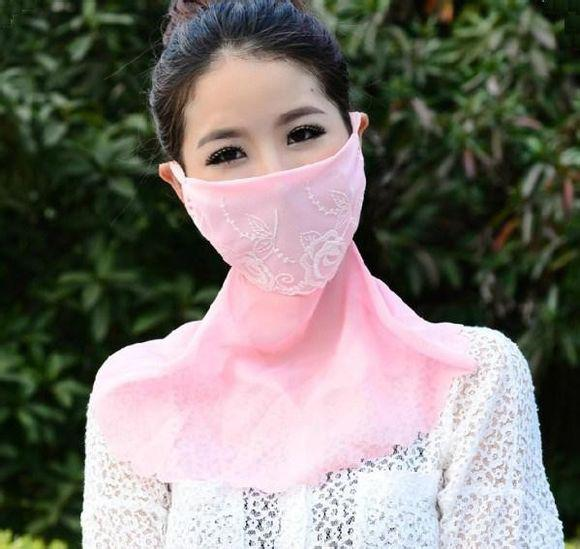OK: (187, 99, 364, 288)
